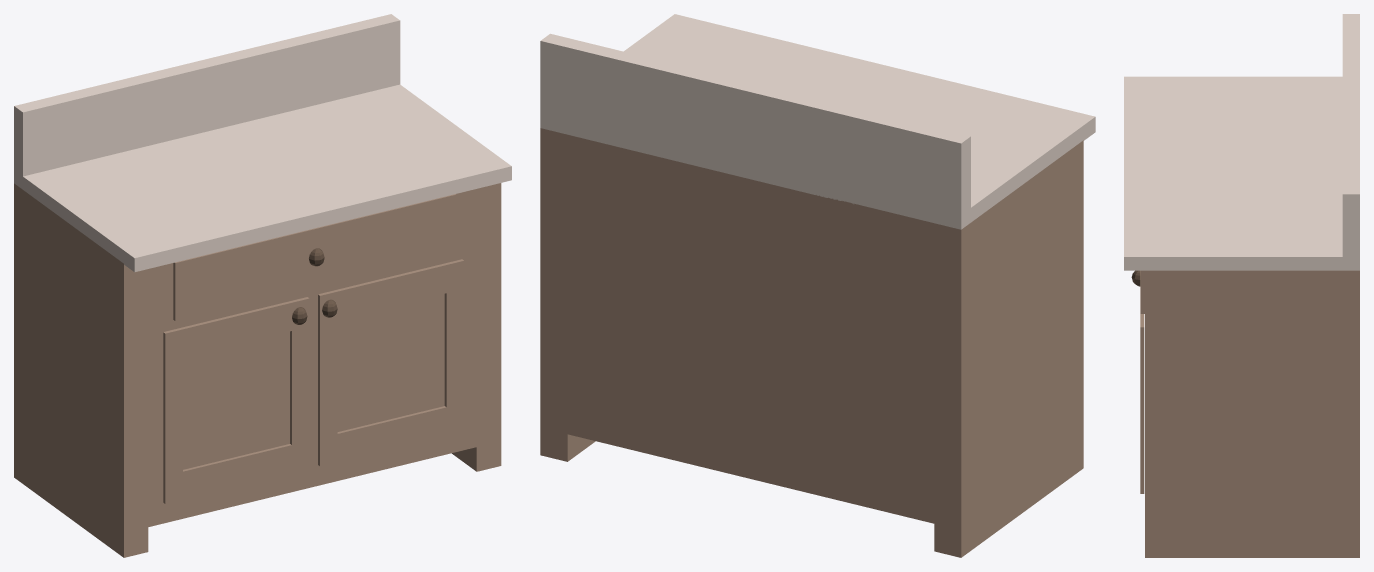
Rendered from Cabinet_1.fbx.
The picture shows the model from 3 angles, left to right: view 1: azimuth 30°, elevation 25°; view 2: azimuth 150°, elevation 25°; view 3: azimuth 270°, elevation 25°; orthographic projection. The views are drawn at different scales.
Visible parts, largest first — view 1: Cabinet_1; view 2: Cabinet_1; view 3: Cabinet_1.
Part boxes in pixels (bbox=[...]): Cabinet_1: bbox=[14, 14, 511, 557]; Cabinet_1: bbox=[540, 14, 1095, 557]; Cabinet_1: bbox=[1124, 14, 1359, 557].
Bounding box in the file's own units: 124 × 68.49 × 117.
